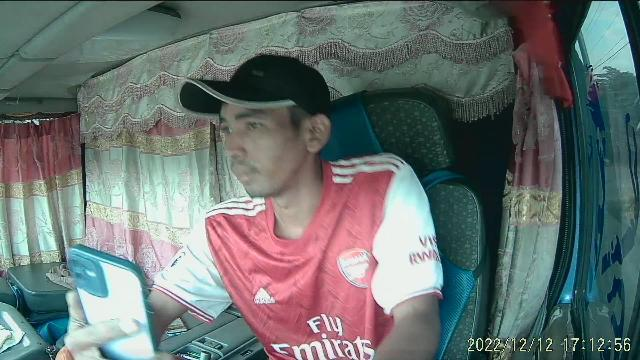PhoneUse: (65, 241, 161, 360)
SafeDriving: (242, 114, 268, 134)
